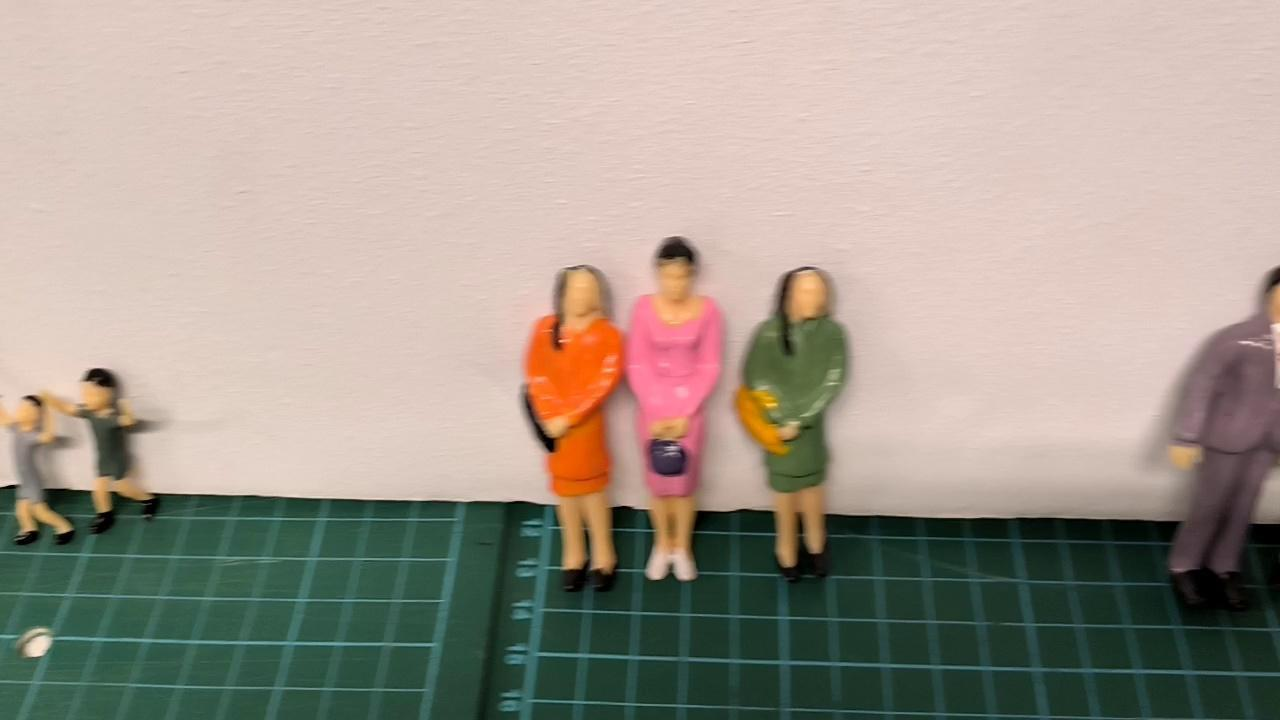human: (732, 255, 858, 590), (515, 258, 626, 601), (625, 227, 729, 587), (47, 366, 162, 546), (0, 388, 84, 551)
